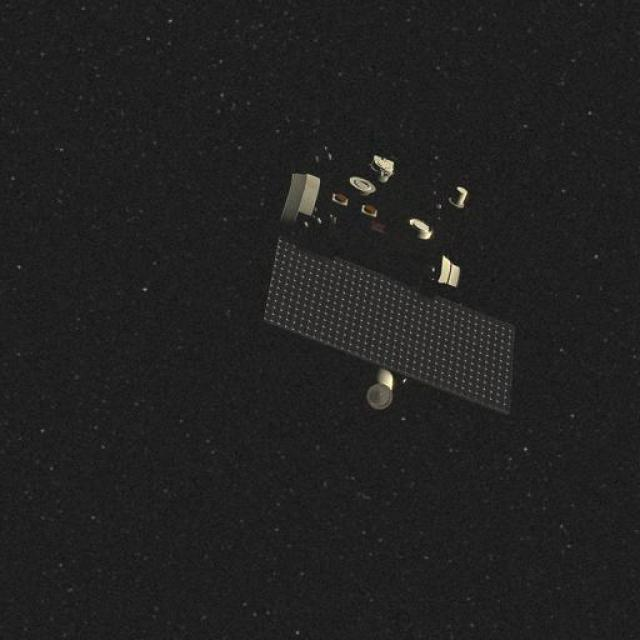proba_3_csc: (246, 108, 536, 430)
